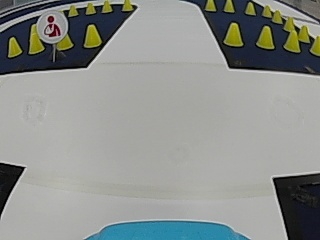cone: (223, 22, 243, 46), (83, 24, 102, 48), (28, 25, 43, 53), (257, 26, 275, 49), (284, 30, 300, 52), (8, 36, 22, 56), (57, 33, 73, 50), (310, 34, 320, 55), (299, 24, 309, 41), (283, 16, 295, 30), (244, 2, 256, 15), (121, 0, 133, 12), (101, 0, 112, 13), (272, 9, 282, 23), (67, 4, 78, 16), (85, 2, 96, 14), (205, 0, 216, 11), (224, 1, 235, 12), (262, 4, 271, 17)
patient: (39, 13, 65, 40)
